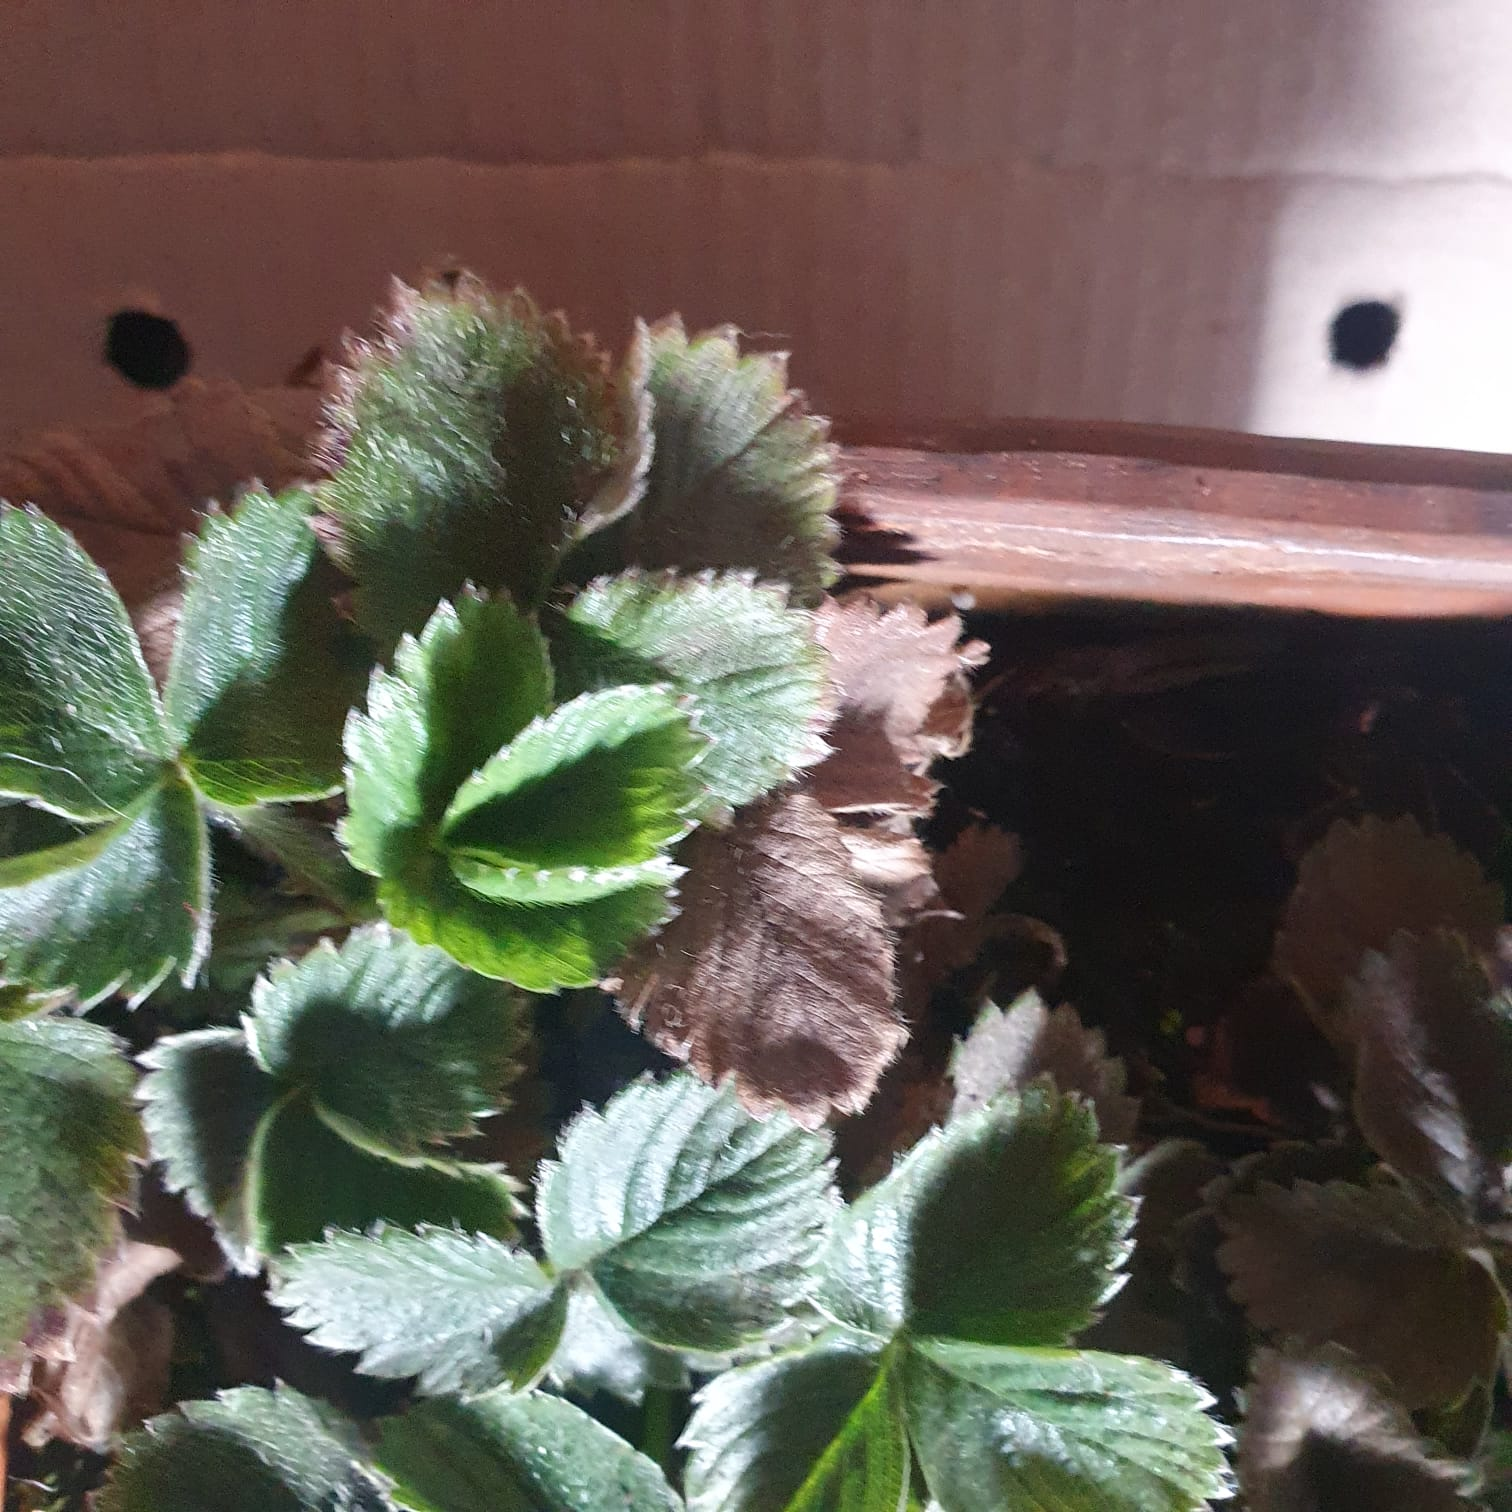tizon_tardio: (648, 588, 1004, 1110)
